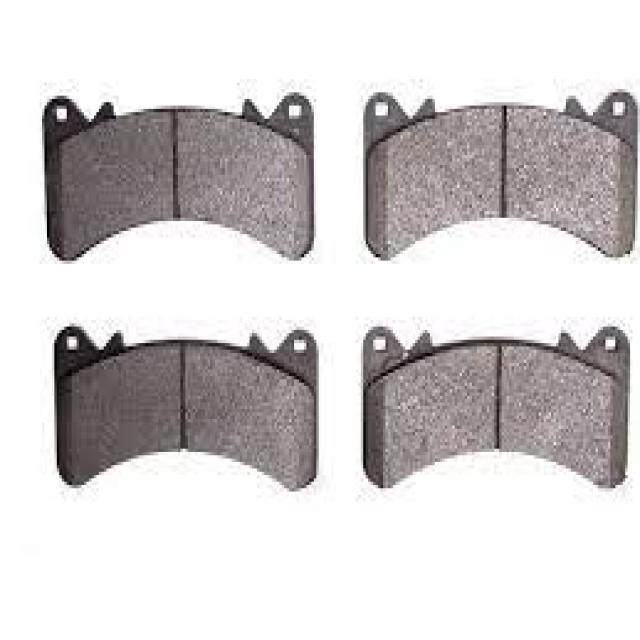brake_pad: (33, 307, 329, 507), (38, 75, 328, 272), (350, 75, 638, 263), (358, 310, 632, 490)
